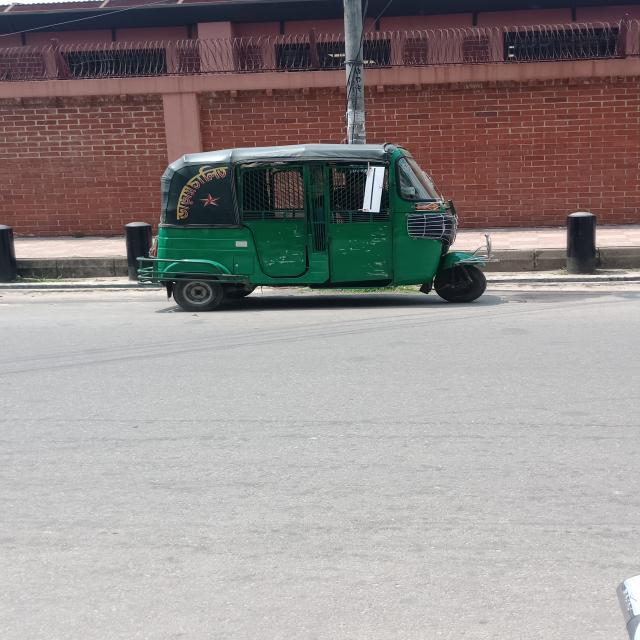CNG: (152, 123, 494, 344)
